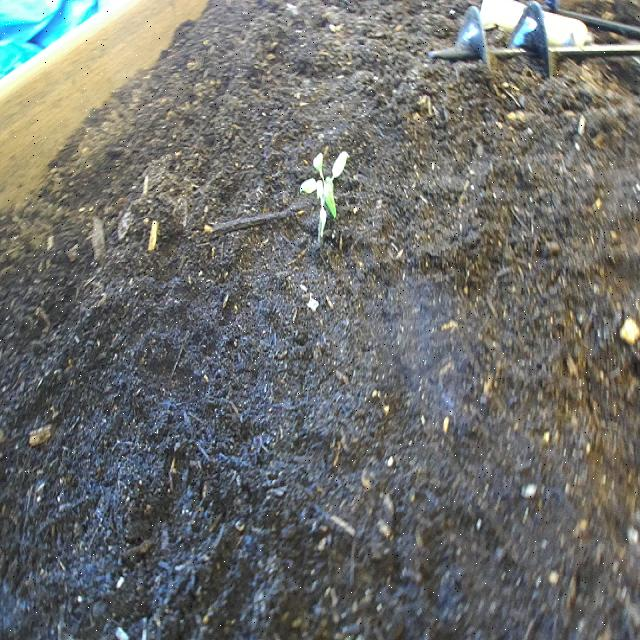Healthy: (298, 146, 353, 246)
